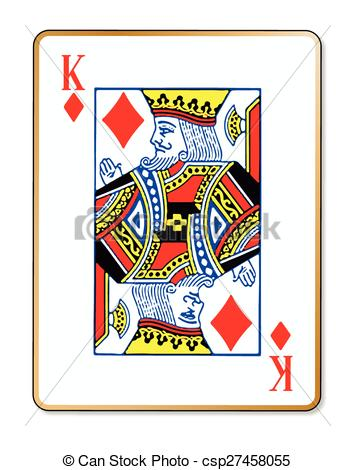king of hearts: (34, 33, 325, 412)
